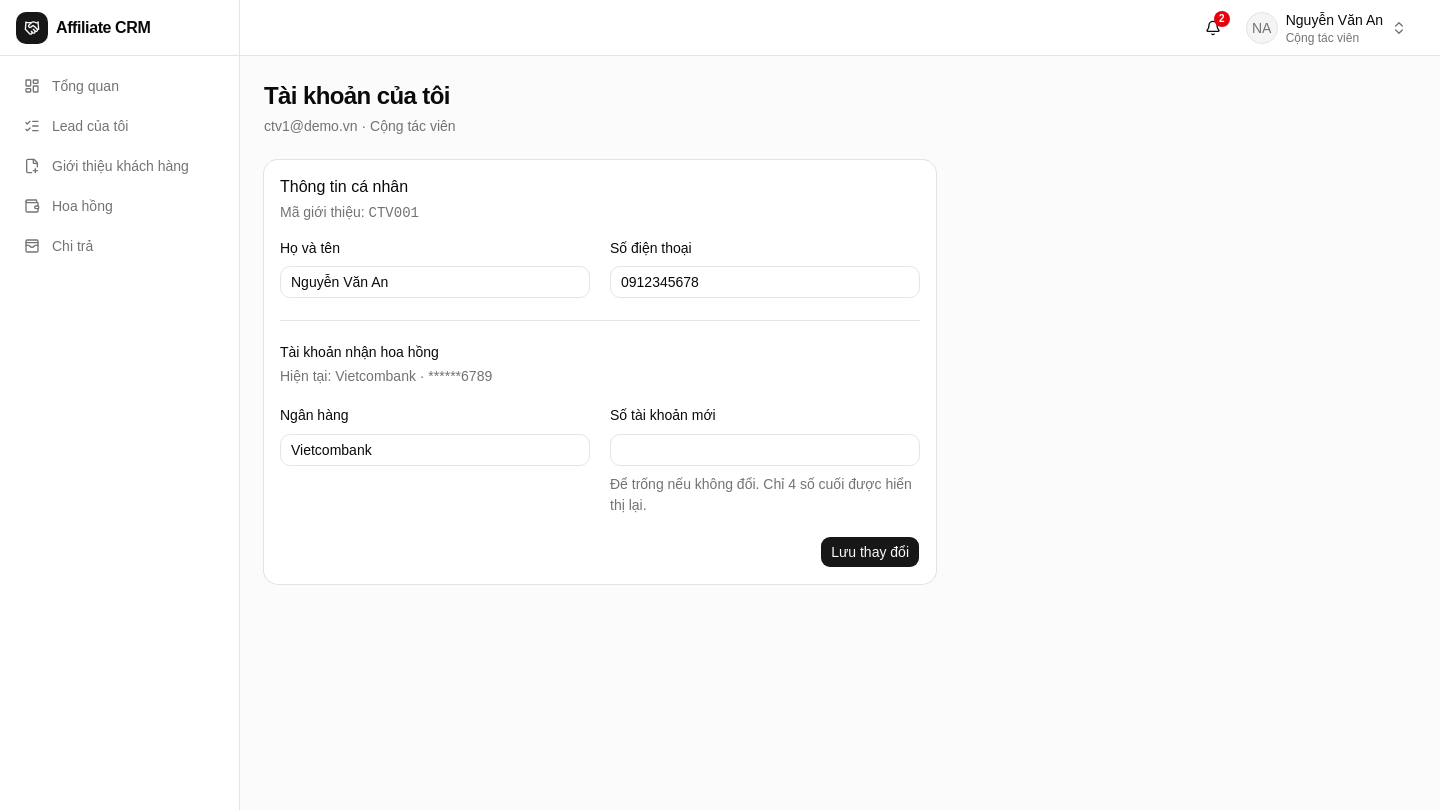
Test: ProfilePage › says so when nothing changed
This screenshot has width=1440, height=810.
Click the button "Lưu thay đổi" at (870, 552), box [820,536,920,568]
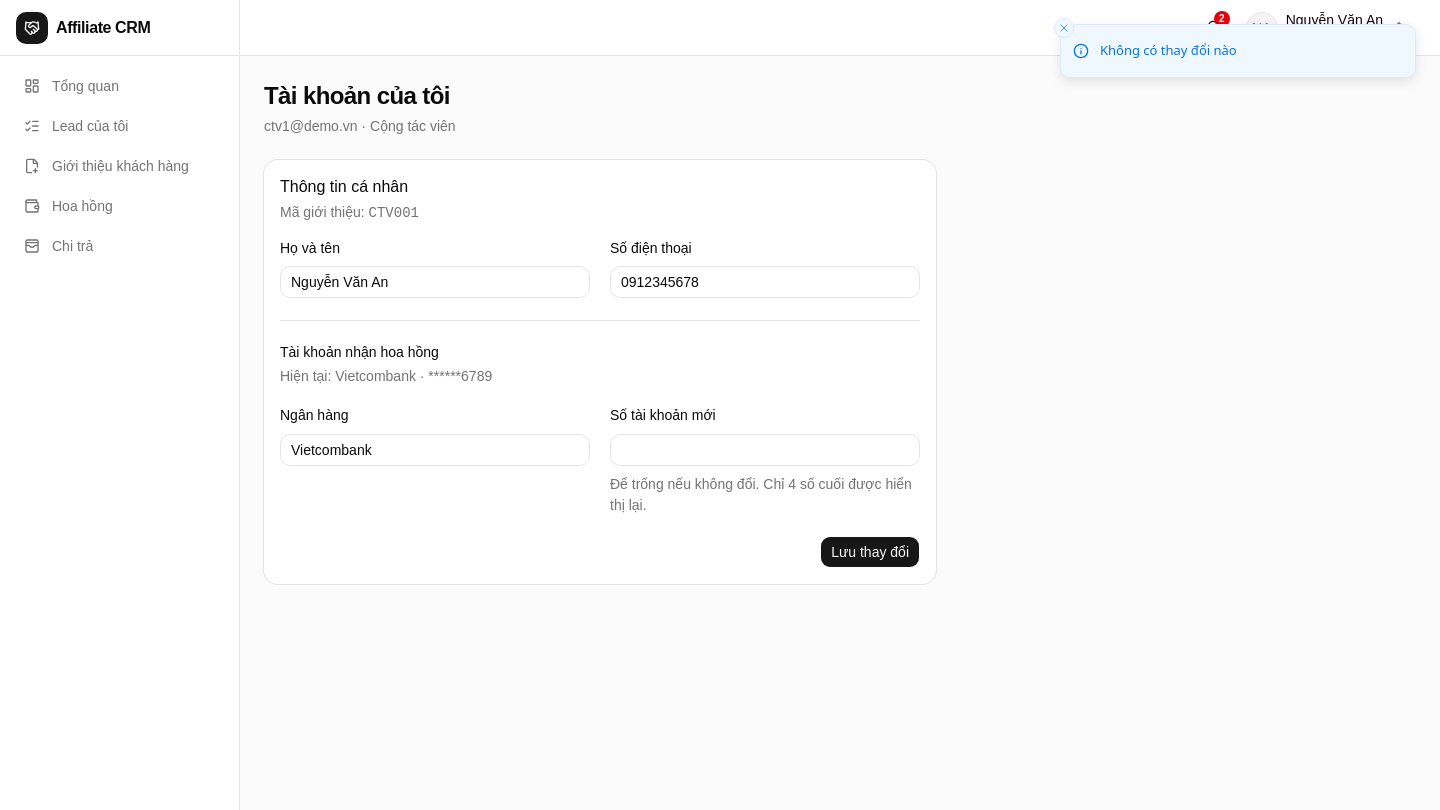
Result: the text "Không có thay đổi nào" is shown at [1100,41,1237,60]
